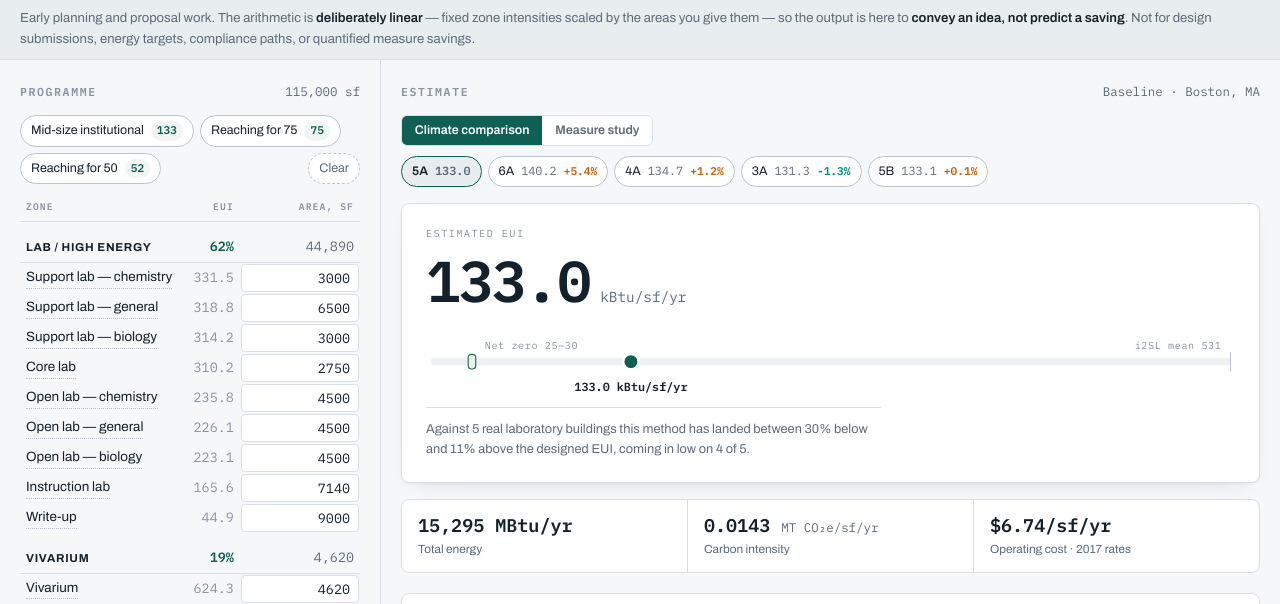
Test case: the reverse measure › is framed as one rather than left to look like a failed idea
Click the button "Measure study" at (597, 131), box [542,116,652,145]
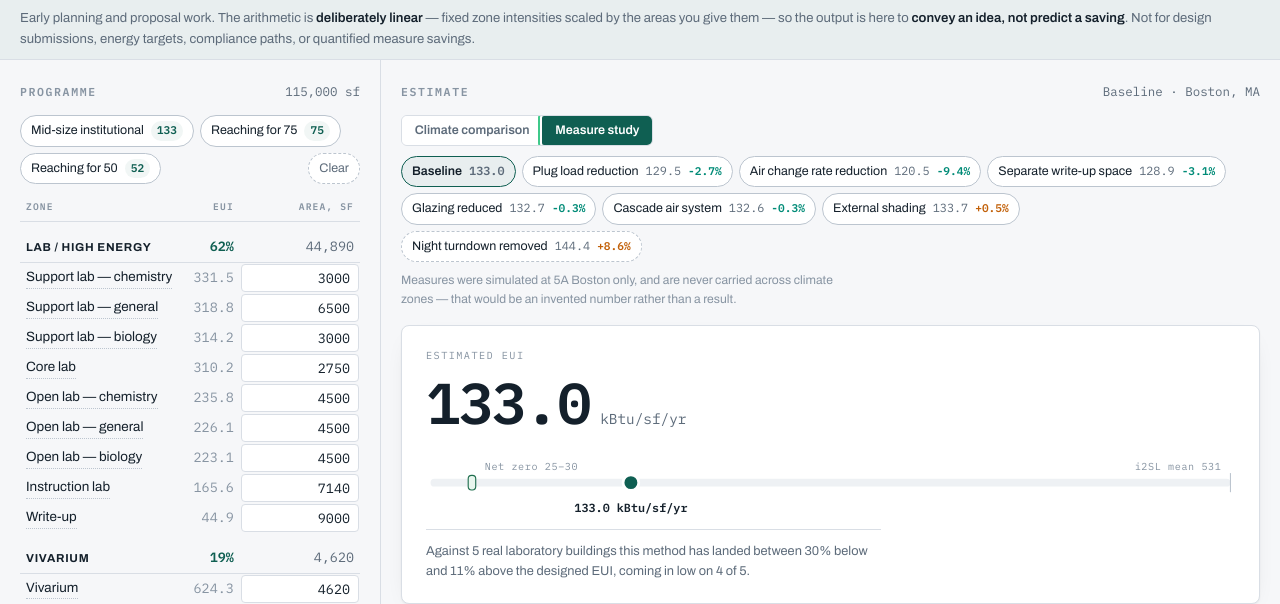
Click the button "Night turndown removed 144.4 +8.6%" at (521, 246), box [401,231,642,262]
(page scrolled)
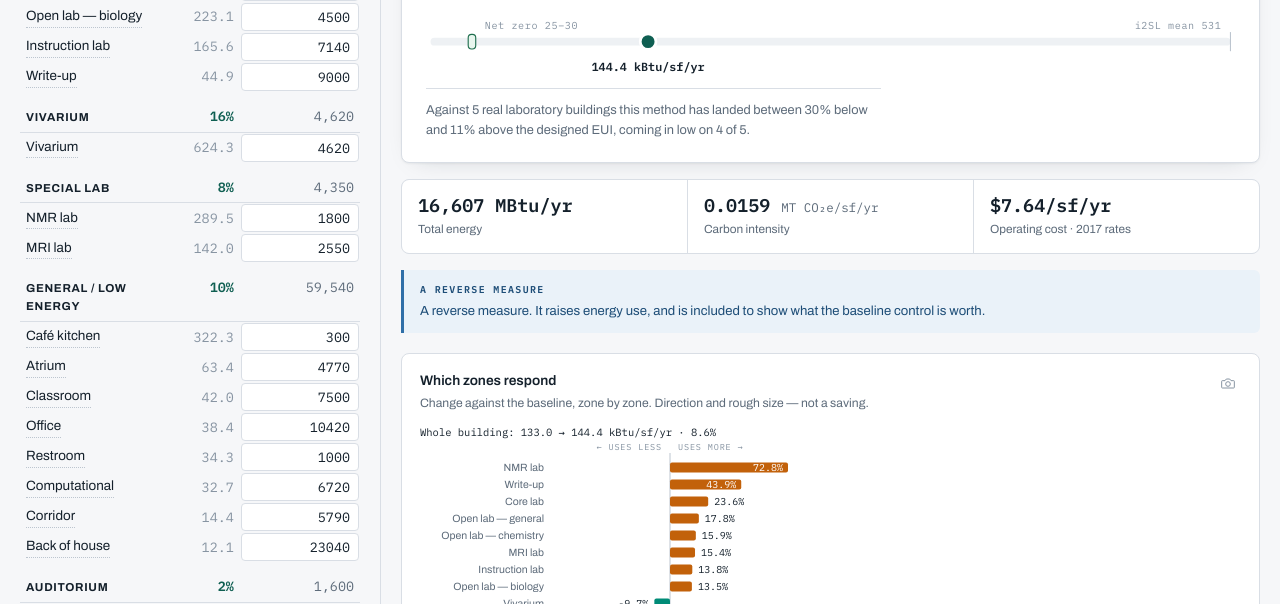
Now the text with class "caveat__lead" reads "A reverse measure", box [420,283,545,296]
Now the element with class "caveat--note" shows "what the baseline control is worth", box [420,303,985,318]
